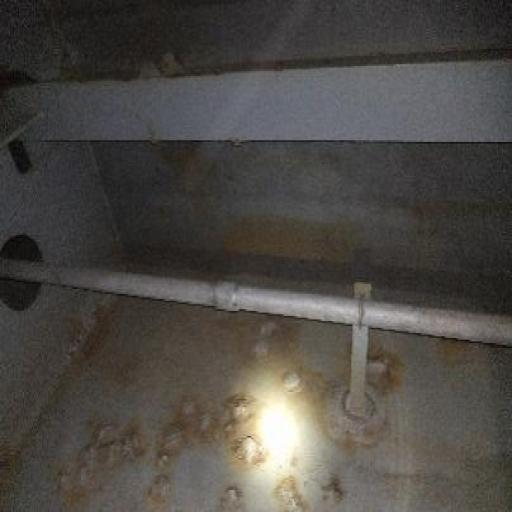Detect-rust-on-metal-surfaces: (143, 386, 281, 508), (53, 412, 159, 497), (241, 308, 308, 359), (355, 340, 409, 398), (277, 472, 302, 507)
